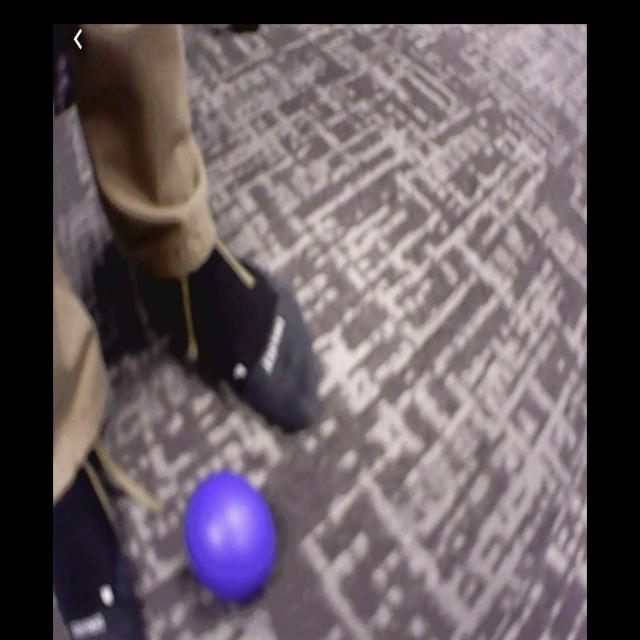ball: (185, 474, 280, 604)
